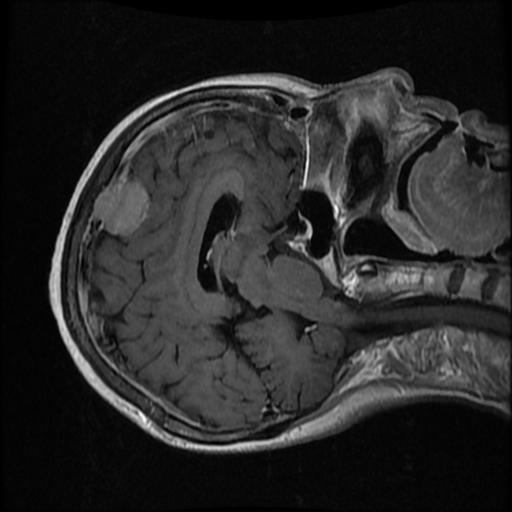meningioma: (94, 181, 149, 237)
